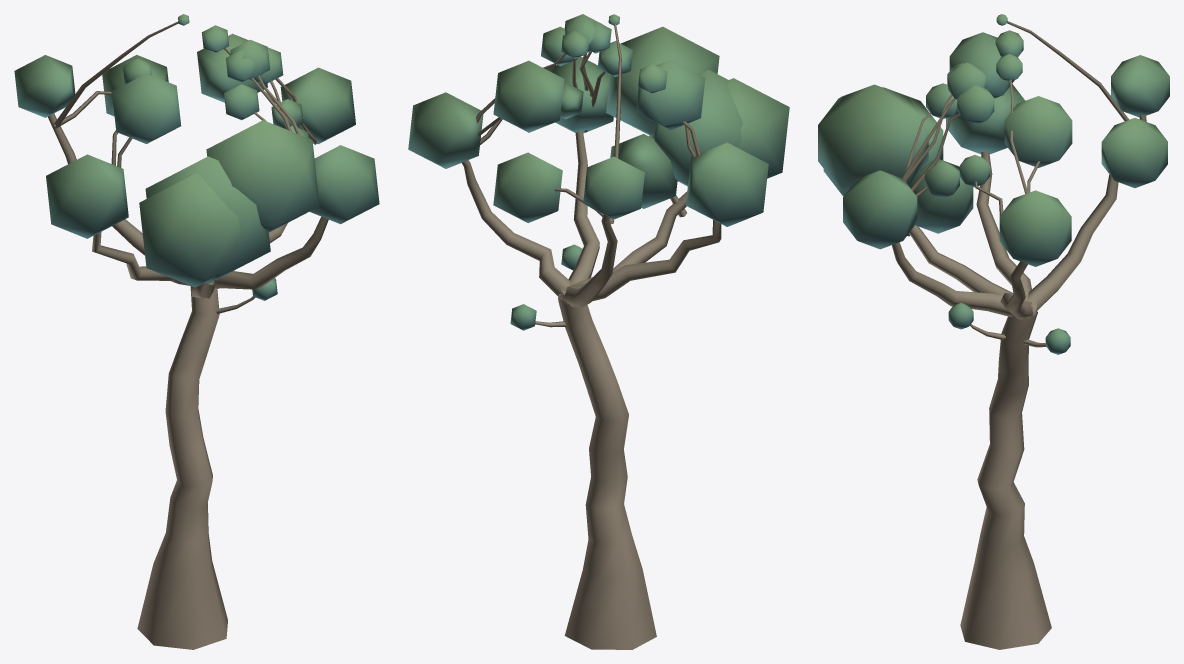
Rendered from seed_tree_g.glb.
3 views of the same model, side by side, from view 1: azimuth 30°, elevation 25°; view 2: azimuth 150°, elevation 25°; view 3: azimuth 270°, elevation 25° (orthographic).
Parts seen in each view (by area): view 1: seed_tree_g_LOD0; view 2: seed_tree_g_LOD0; view 3: seed_tree_g_LOD0.
Boxes of the visible parts, x1,y1,x2,y2 form: seed_tree_g_LOD0: (14,14,379,649); seed_tree_g_LOD0: (408,14,789,649); seed_tree_g_LOD0: (818,14,1169,649).
Size of what is drawn, in the model's own units: 7.72 by 14.02 by 7.25.
